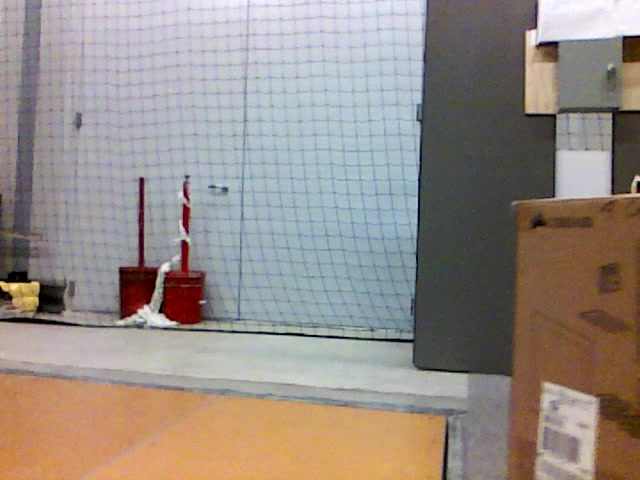box: (514, 194, 640, 480)
